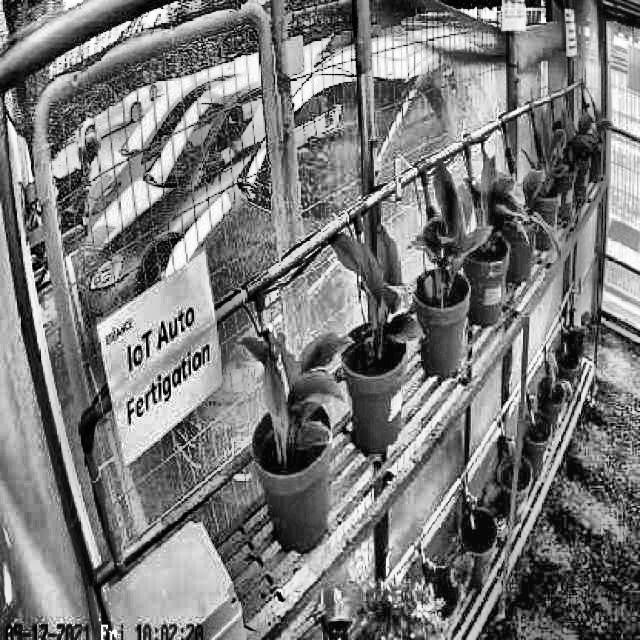plants: (239, 323, 347, 474), (326, 222, 423, 370), (414, 156, 491, 309), (466, 164, 562, 270)
